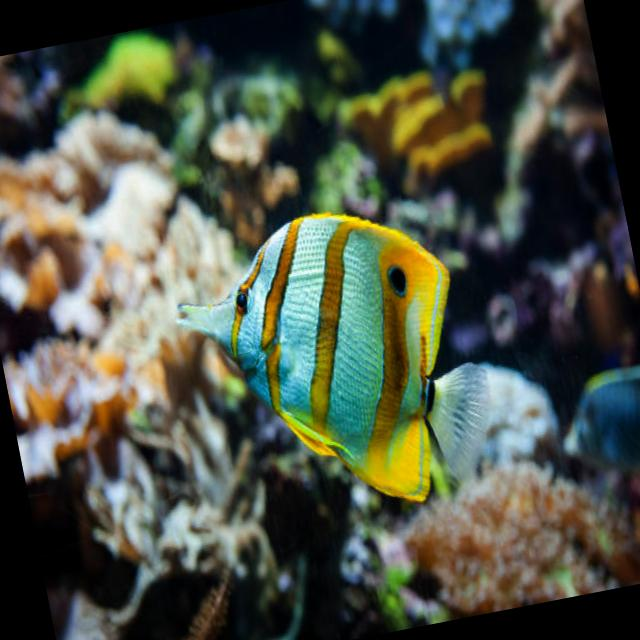ButterflyFish: (160, 187, 507, 540)
